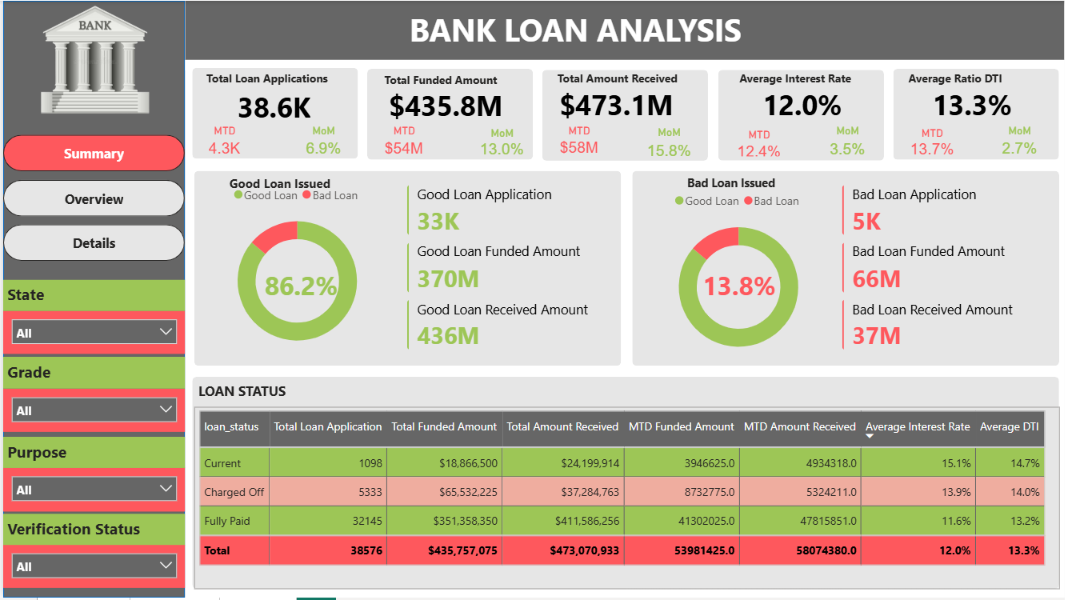

The dashboard page shown, as its layout file describes it:
{"tool":"powerbi","page":{"name":"Summary","canvas":[1280,720],"ordinal":0},"visuals":[{"type":"shape","box":[0,0,219.3,719.9],"z":0},{"type":"shape","box":[219.6,0,1060.5,71.2],"z":1000},{"type":"textbox","box":[485,4.8,439.1,60.3],"z":2000},{"type":"shape","box":[228,80.8,200,109.8],"z":3000},{"type":"cardVisual","fields":{"Data":["bank_project financial_loan.Total Loan Application"]},"box":[238.1,90.9,178.9,70.7],"z":4000},{"type":"textbox","box":[239.8,79.9,161.7,32.6],"z":5000},{"type":"cardVisual","title":"MTD","fields":{"Data":["bank_project financial_loan.MTD Loan Application"]},"box":[230.4,149.6,73.6,41],"z":6000},{"type":"shape","box":[439.4,82,200,109.8],"z":7000},{"type":"shape","box":[650.9,83.2,200,109.8],"z":8000},{"type":"shape","box":[1073.7,82,200,109.8],"z":9000},{"type":"shape","box":[862.3,83.7,200,109.6],"z":10000},{"type":"cardVisual","title":"MoM","fields":{"Data":["bank_project financial_loan.MoM Loan Application"]},"box":[345,149.6,83.2,41],"z":11000},{"type":"cardVisual","fields":{"Data":["bank_project financial_loan.Total Funded Amount"]},"box":[439.1,97.7,189.4,53.1],"z":12000},{"type":"textbox","box":[455.4,81.2,161.7,32.6],"z":13000},{"type":"cardVisual","title":"MTD","fields":{"Data":["bank_project financial_loan.MTD Funded Amount"]},"box":[441.6,149.6,84.5,41],"z":14000},{"type":"cardVisual","title":"MoM","fields":{"Data":["bank_project financial_loan.MoM Total Funded Ratio"]},"box":[553.8,152,96.5,38.6],"z":15000},{"type":"cardVisual","fields":{"Data":["bank_project financial_loan.Total Payment Received"]},"box":[653.9,96.5,171.3,53.1],"z":16000},{"type":"textbox","box":[663.9,80.2,161.7,32.6],"z":17000},{"type":"cardVisual","title":"MTD","fields":{"Data":["bank_project financial_loan.MTD Total Amount Received"]},"box":[650.3,149.6,89.3,39.8],"z":18000},{"type":"cardVisual","title":"MoM","fields":{"Data":["bank_project financial_loan.MoM Payment Received Ratio"]},"box":[756.4,150.8,94.1,43.4],"z":19000},{"type":"cardVisual","fields":{"Data":["bank_project financial_loan.Average Amount Ratio"]},"box":[863.8,96.5,200.3,53.1],"z":20000},{"type":"textbox","box":[883.1,79.6,161.7,32.6],"z":21000},{"type":"cardVisual","title":"MTD","fields":{"Data":["bank_project financial_loan.MTD Avg Interest Rate"]},"box":[867.4,154.4,89.3,38.6],"z":22000},{"type":"cardVisual","title":"MoM","fields":{"Data":["bank_project financial_loan.MoM Avg Interest"]},"box":[973.6,149.6,90.5,43.4],"z":23000},{"type":"cardVisual","fields":{"Data":["bank_project financial_loan.Avg DTI"]},"box":[1073.7,96.5,190.6,53.1],"z":24000},{"type":"textbox","box":[1086.6,79.2,161.7,32.6],"z":25000},{"type":"cardVisual","title":"MTD","fields":{"Data":["bank_project financial_loan.MTD Avg DTI"]},"box":[1073.7,152,94.1,39.8],"z":26000},{"type":"cardVisual","title":"MoM","fields":{"Data":["bank_project financial_loan.MoM Avg DTI"]},"box":[1178.7,149.6,95.3,42.2],"z":27000},{"type":"shape","box":[230.4,205.1,515,235.3],"z":28000},{"type":"shape","box":[758.9,205.1,515.2,235.3],"z":29000},{"type":"donutChart","fields":{"Category":["bank_project financial_loan.Good vs Bad Loan"],"Y":["bank_project financial_loan.Total Loan Application"]},"box":[228,213.5,253.9,219.3],"z":30000},{"type":"cardVisual","fields":{"Data":["bank_project financial_loan.Good Loan %"]},"box":[290.8,314.9,137.5,53.1],"z":31000},{"type":"textbox","box":[267.8,205.1,190.6,32.6],"z":32000},{"type":"cardVisual","fields":{"Data":["bank_project financial_loan.Good Loan Application","bank_project financial_loan.Good Loan Funded Amount","bank_project financial_loan.Good Loan Received Amount"]},"box":[470.5,205.1,269,235.3],"z":33000},{"type":"donutChart","fields":{"Category":["bank_project financial_loan.Good vs Bad Loan"],"Y":["bank_project financial_loan.Total Loan Application"]},"box":[760.1,220.8,254.6,219.6],"z":34000},{"type":"textbox","box":[799.9,205.1,156.8,32.6],"z":35000},{"type":"cardVisual","fields":{"Data":["bank_project financial_loan.Bad Loan %"]},"box":[819.2,314.9,137.5,53.1],"z":36000},{"type":"cardVisual","fields":{"Data":["bank_project financial_loan.Bad Loan Application","bank_project financial_loan.Bad Loan Funded Amount","bank_project financial_loan.Bad Loan Received Amount"]},"box":[995.3,205.1,269,235.3],"z":37000},{"type":"shape","box":[228,453.6,1046,255.8],"z":38000},{"type":"tableEx","fields":{"Values":["bank_project financial_loan.loan_status","bank_project financial_loan.Total Loan Application","bank_project financial_loan.Total Funded Amount","bank_project financial_loan.Total Amount Received","bank_project financial_loan.MTD Funded Amount","bank_project financial_loan.MTD Total Amount Received","bank_project financial_loan.Average Interest Rate","bank_project financial_loan.Average DTI"]},"box":[230.4,489.8,1043.6,219.6],"z":39000},{"type":"slicer","fields":{"Values":["bank_project financial_loan.address_state"]},"box":[0,373.5,219.6,51.9],"z":40000},{"type":"slicer","fields":{"Values":["bank_project financial_loan.grade"]},"box":[0,468.1,219.6,51.9],"z":41000},{"type":"slicer","fields":{"Values":["bank_project financial_loan.purpose"]},"box":[0,563.4,219.6,53.1],"z":42000},{"type":"slicer","fields":{"Values":["bank_project financial_loan.verification_status"]},"box":[0,656.3,219.6,51.9],"z":43000},{"type":"textbox","box":[0,336.1,219.6,37.4],"z":44000},{"type":"textbox","box":[0,429.5,219.6,38.6],"z":45000},{"type":"textbox","box":[0,526,219.6,37.4],"z":46000},{"type":"textbox","box":[0,618.9,219.6,37.4],"z":47000},{"type":"textbox","box":[230.4,454.8,161.7,32.6],"z":48000},{"type":"image","box":[15.7,2.4,190.6,137.5],"z":49000},{"type":"pageNavigator","box":[0,161.7,219.6,152],"z":50000}]}

Visuals, with their boxes in screenshot pixels (x1, y1, x2, y2), scaled from the page's 1280x720 canvas onto the 1065x601 screenshot:
shape: [x1=0, y1=0, x2=182, y2=600]
shape: [x1=183, y1=0, x2=1064, y2=59]
textbox: [x1=404, y1=4, x2=769, y2=54]
shape: [x1=190, y1=67, x2=356, y2=159]
cardVisual - bank_project financial_loan.Total Loan Application: [x1=198, y1=76, x2=347, y2=135]
textbox: [x1=200, y1=67, x2=334, y2=94]
"MTD" cardVisual: [x1=192, y1=125, x2=253, y2=159]
shape: [x1=366, y1=68, x2=532, y2=160]
shape: [x1=542, y1=69, x2=708, y2=161]
shape: [x1=893, y1=68, x2=1060, y2=160]
shape: [x1=717, y1=70, x2=884, y2=161]
"MoM" cardVisual: [x1=287, y1=125, x2=356, y2=159]
cardVisual - bank_project financial_loan.Total Funded Amount: [x1=365, y1=82, x2=523, y2=126]
textbox: [x1=379, y1=68, x2=513, y2=95]
"MTD" cardVisual: [x1=367, y1=125, x2=438, y2=159]
"MoM" cardVisual: [x1=461, y1=127, x2=541, y2=159]
cardVisual - bank_project financial_loan.Total Payment Received: [x1=544, y1=81, x2=687, y2=125]
textbox: [x1=552, y1=67, x2=687, y2=94]
"MTD" cardVisual: [x1=541, y1=125, x2=615, y2=158]
"MoM" cardVisual: [x1=629, y1=126, x2=708, y2=162]
cardVisual - bank_project financial_loan.Average Amount Ratio: [x1=719, y1=81, x2=885, y2=125]
textbox: [x1=735, y1=66, x2=869, y2=94]
"MTD" cardVisual: [x1=722, y1=129, x2=796, y2=161]
"MoM" cardVisual: [x1=810, y1=125, x2=885, y2=161]
cardVisual - bank_project financial_loan.Avg DTI: [x1=893, y1=81, x2=1052, y2=125]
textbox: [x1=904, y1=66, x2=1039, y2=93]
"MTD" cardVisual: [x1=893, y1=127, x2=972, y2=160]
"MoM" cardVisual: [x1=981, y1=125, x2=1060, y2=160]
shape: [x1=192, y1=171, x2=620, y2=368]
shape: [x1=631, y1=171, x2=1060, y2=368]
donutChart - bank_project financial_loan.Good vs Bad Loan x bank_project financial_loan.Total Loan Application: [x1=190, y1=178, x2=401, y2=361]
cardVisual - bank_project financial_loan.Good Loan %: [x1=242, y1=263, x2=356, y2=307]
textbox: [x1=223, y1=171, x2=381, y2=198]
cardVisual - bank_project financial_loan.Good Loan Application x bank_project financial_loan.Good Loan Funded Amount: [x1=391, y1=171, x2=615, y2=368]
donutChart - bank_project financial_loan.Good vs Bad Loan x bank_project financial_loan.Total Loan Application: [x1=632, y1=184, x2=844, y2=368]
textbox: [x1=666, y1=171, x2=796, y2=198]
cardVisual - bank_project financial_loan.Bad Loan %: [x1=682, y1=263, x2=796, y2=307]
cardVisual - bank_project financial_loan.Bad Loan Application x bank_project financial_loan.Bad Loan Funded Amount: [x1=828, y1=171, x2=1052, y2=368]
shape: [x1=190, y1=379, x2=1060, y2=592]
tableEx - bank_project financial_loan.loan_status x bank_project financial_loan.Total Loan Application: [x1=192, y1=409, x2=1060, y2=592]
slicer - bank_project financial_loan.address_state: [x1=0, y1=312, x2=183, y2=355]
slicer - bank_project financial_loan.grade: [x1=0, y1=391, x2=183, y2=434]
slicer - bank_project financial_loan.purpose: [x1=0, y1=470, x2=183, y2=515]
slicer - bank_project financial_loan.verification_status: [x1=0, y1=548, x2=183, y2=591]
textbox: [x1=0, y1=281, x2=183, y2=312]
textbox: [x1=0, y1=359, x2=183, y2=391]
textbox: [x1=0, y1=439, x2=183, y2=470]
textbox: [x1=0, y1=517, x2=183, y2=548]
textbox: [x1=192, y1=380, x2=326, y2=407]
image: [x1=13, y1=2, x2=172, y2=117]
pageNavigator: [x1=0, y1=135, x2=183, y2=262]
